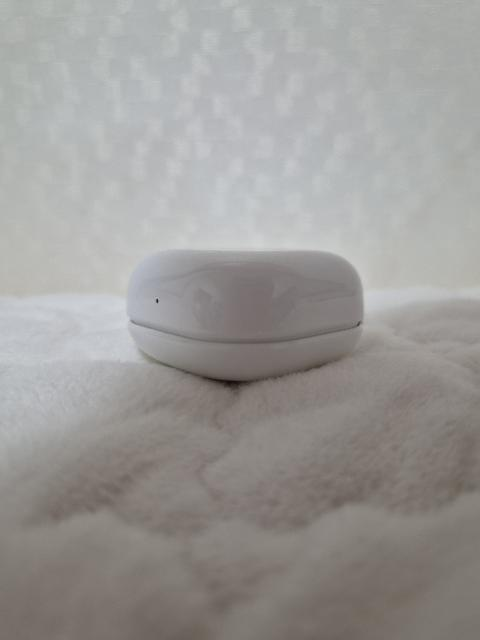earphone_case: (126, 247, 365, 382)
